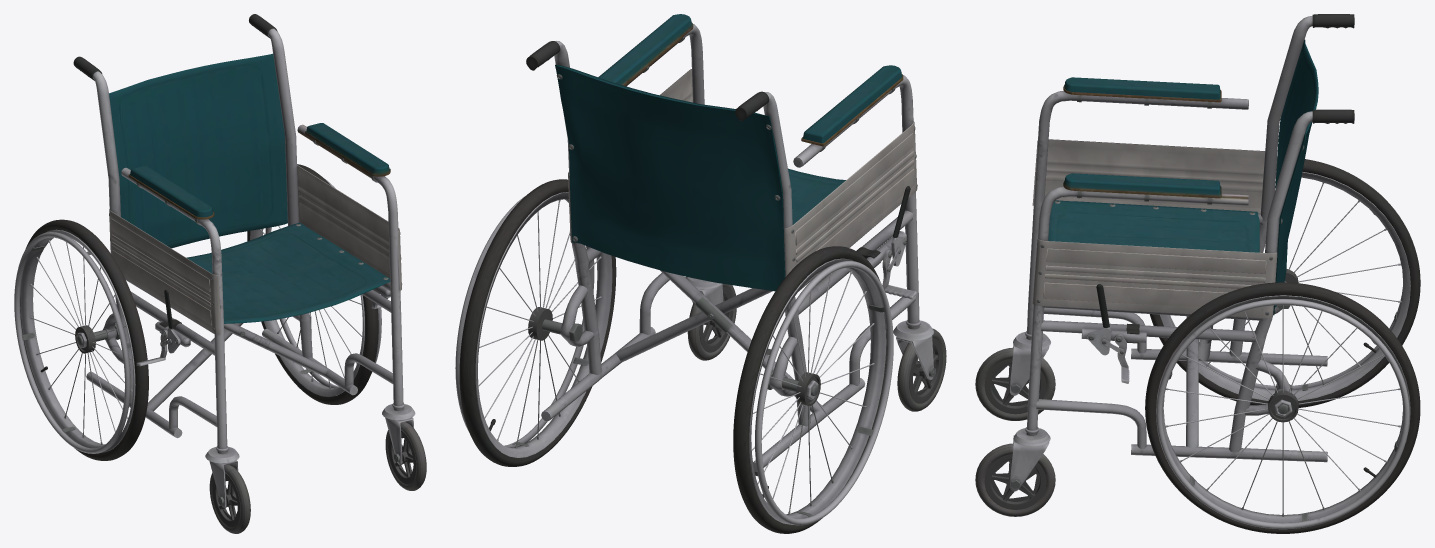
File: wheelchair-01.glb
3 views of the same model, side by side, from view 1: azimuth 30°, elevation 25°; view 2: azimuth 150°, elevation 25°; view 3: azimuth 270°, elevation 25° (orthographic). The views are drawn at different scales.
Parts seen in each view (by area): view 1: wheelchair_01; view 2: wheelchair_01; view 3: wheelchair_01.
Part boxes in pixels (x1,y1,x2,y2): wheelchair_01: (14, 14, 426, 533); wheelchair_01: (455, 14, 946, 533); wheelchair_01: (975, 14, 1420, 533).
Size of the model in its own units: 0.8241 by 1.1 by 1.09.
Materials: 1 (1 with a texture image).
